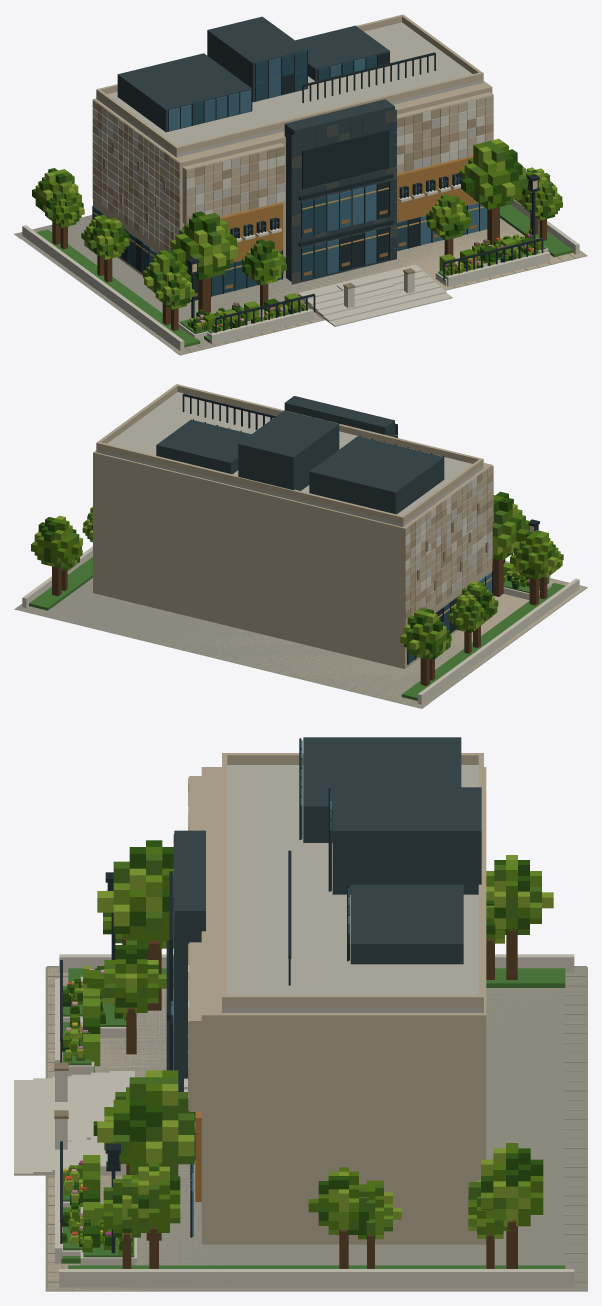
File: SM_Mapa_023.fbx
The picture shows the model from 3 angles, top to bottom: view 1: azimuth 30°, elevation 25°; view 2: azimuth 150°, elevation 25°; view 3: azimuth 270°, elevation 25°; orthographic projection. The views are drawn at different scales.
Visible parts, largest first — view 1: SM_Mapa_023; view 2: SM_Mapa_023; view 3: SM_Mapa_023.
Part boxes in pixels (bbox=[...]): SM_Mapa_023: bbox=[14, 14, 587, 355]; SM_Mapa_023: bbox=[14, 384, 587, 708]; SM_Mapa_023: bbox=[14, 737, 587, 1291].
Bounding box in the file's own units: 65 × 48.41 × 28.63.
